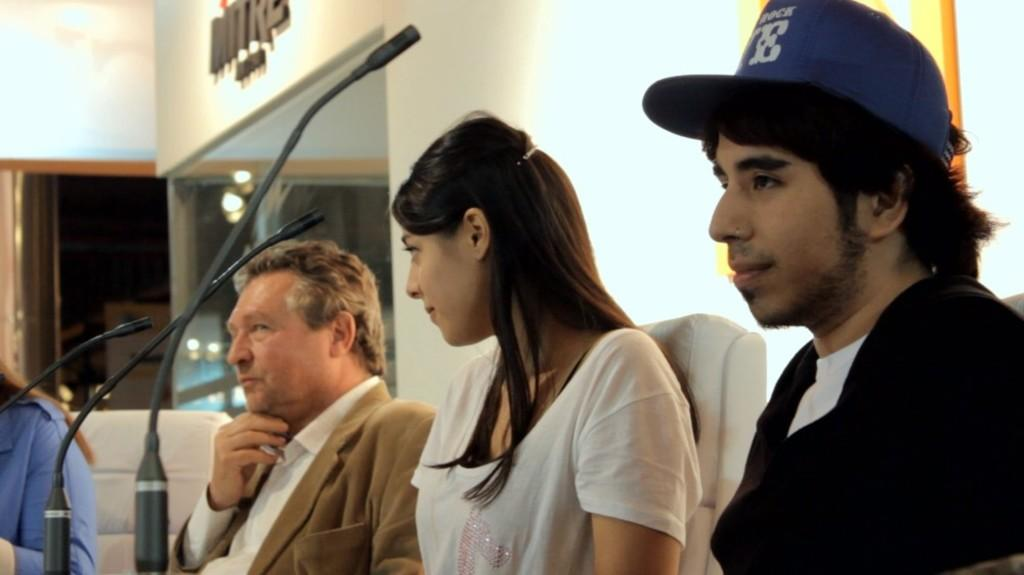Hat: (640, 0, 956, 168)
